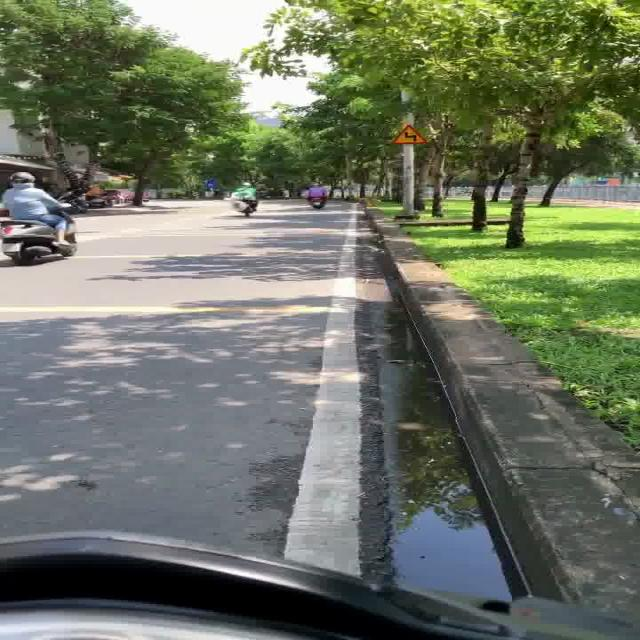Bien bao nhieu cho ngoat nguy hiem lien tiep: (386, 122, 433, 146)
